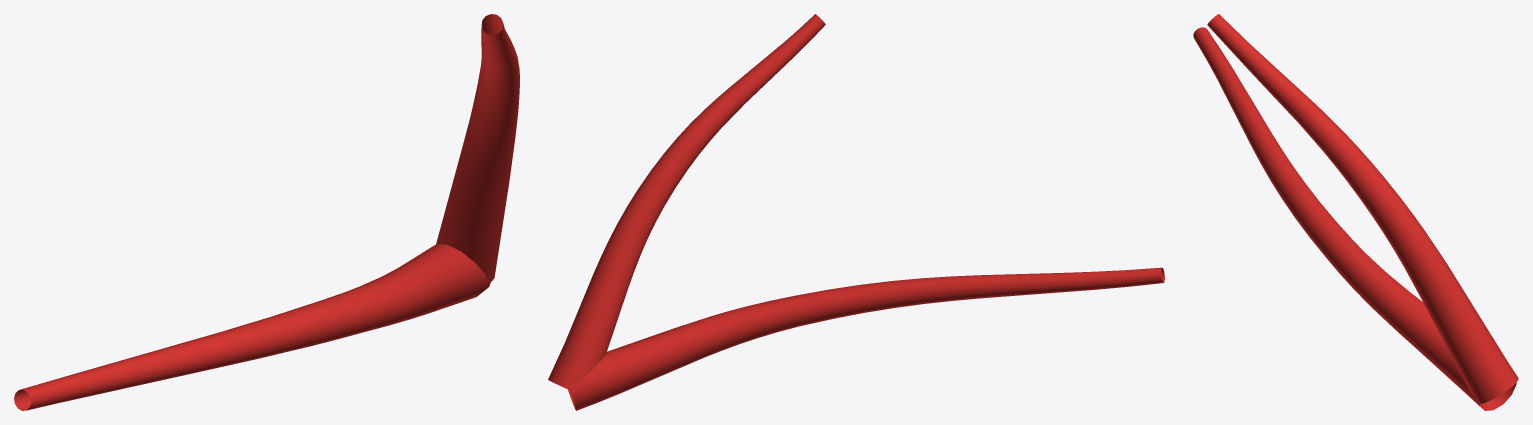
The model's file is circulatorio-mental-branch-of-inferior-alveolar-artery-l.glb.
3 renders of one model, left to right at view 1: azimuth 30°, elevation 25°; view 2: azimuth 150°, elevation 25°; view 3: azimuth 270°, elevation 25°, orthographic. The views are drawn at different scales.
Visible parts, largest first — view 1: Mental branch of inferior alveolar artery.l; view 2: Mental branch of inferior alveolar artery.l; view 3: Mental branch of inferior alveolar artery.l.
Part boxes in pixels (x1,y1,x2,y2): Mental branch of inferior alveolar artery.l: (14, 14, 519, 410); Mental branch of inferior alveolar artery.l: (548, 14, 1164, 410); Mental branch of inferior alveolar artery.l: (1193, 14, 1518, 410).
Size of the model in its own units: 0.00707 by 0.00462 by 0.00401.
